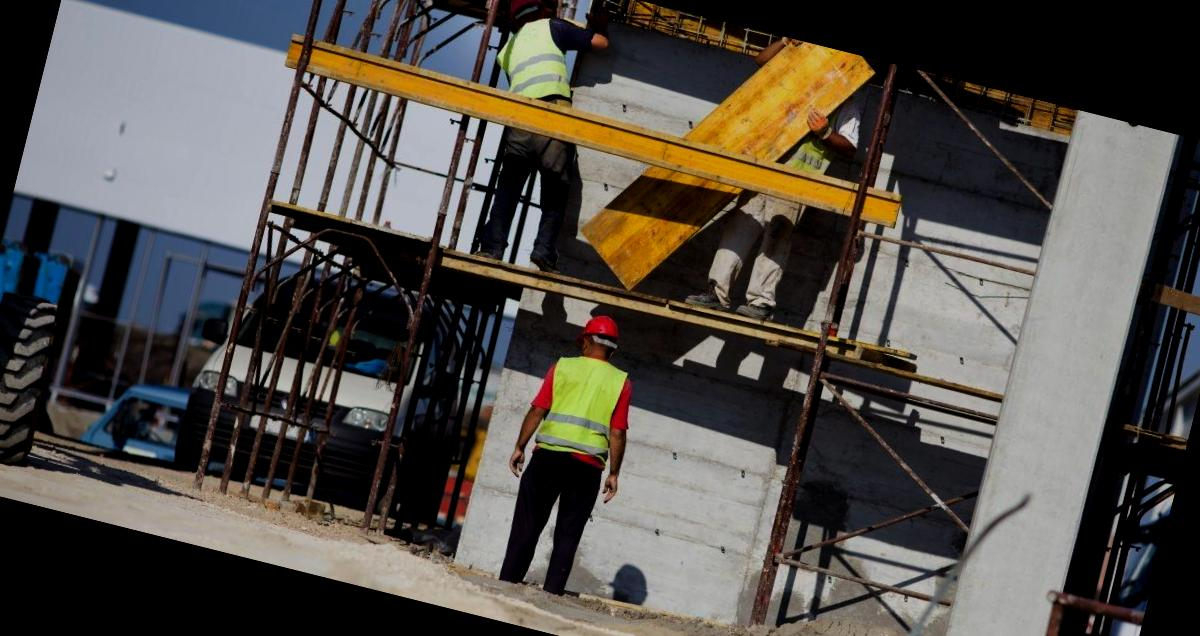helmet: (573, 302, 634, 352)
person: (482, 297, 663, 605)
